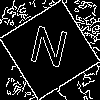N: (25, 25, 70, 78)
